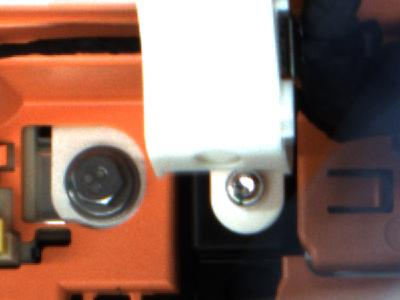nut_b: (61, 136, 137, 227)
